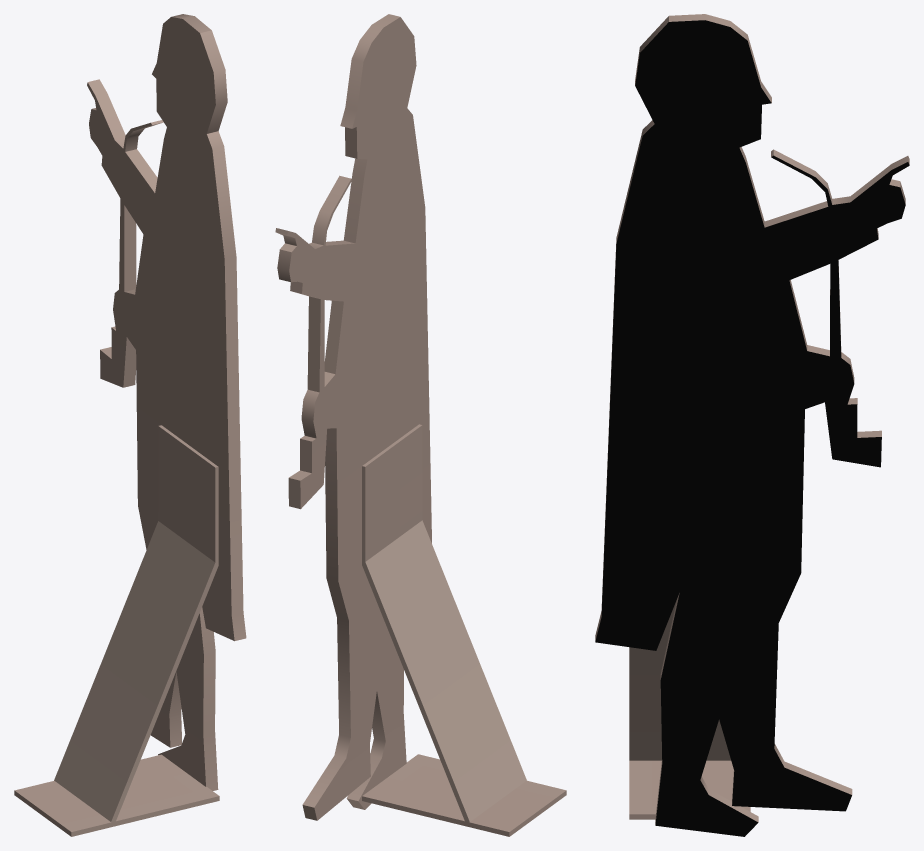
The model's file is Mann 2.FBX.
3 views of the same model, side by side, from view 1: azimuth 30°, elevation 25°; view 2: azimuth 150°, elevation 25°; view 3: azimuth 270°, elevation 25° (orthographic). The views are drawn at different scales.
Visible parts, largest first — view 1: Mann 2; view 2: Mann 2; view 3: Mann 2.
Part boxes in pixels (<box>): Mann 2: <box>14,14,246,836</box>; Mann 2: <box>275,14,566,836</box>; Mann 2: <box>595,14,909,836</box>.
Size of the model in its own units: 40.25 by 186 by 64.8.
